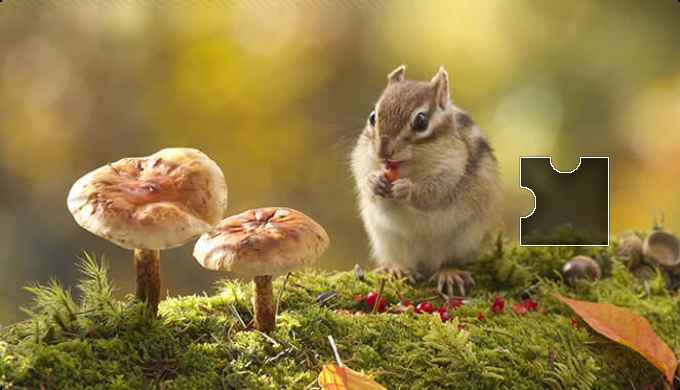gap: (521, 156, 609, 245)
